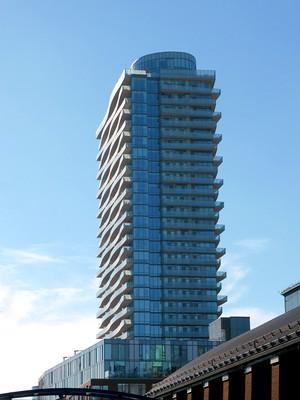building: (91, 47, 231, 344)
